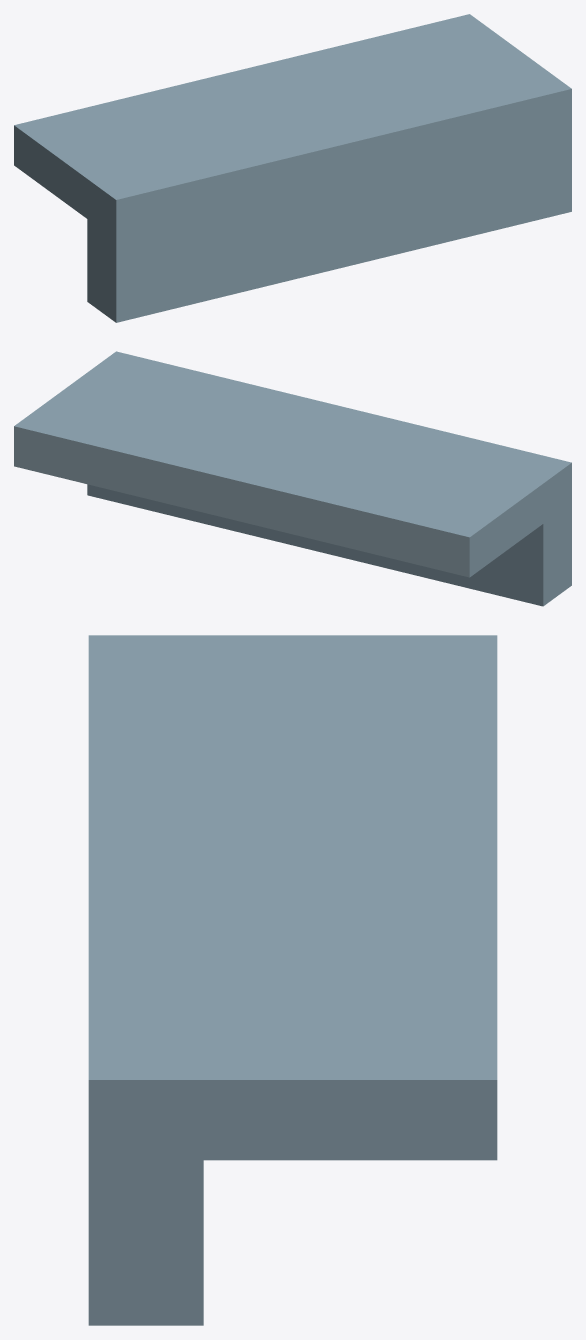
The model's file is shelf.fbx.
The picture shows the model from 3 angles, top to bottom: view 1: azimuth 30°, elevation 25°; view 2: azimuth 150°, elevation 25°; view 3: azimuth 270°, elevation 25°; orthographic projection. The views are drawn at different scales.
Visible parts, largest first — view 1: Shelf; view 2: Shelf; view 3: Shelf.
Part boxes in pixels (x1=…): Shelf: x1=14, y1=14, x2=571, y2=322; Shelf: x1=14, y1=351, x2=571, y2=606; Shelf: x1=88, y1=635, x2=497, y2=1325.
Bounding box in the file's own units: 62.61 × 16.13 × 24.32.
